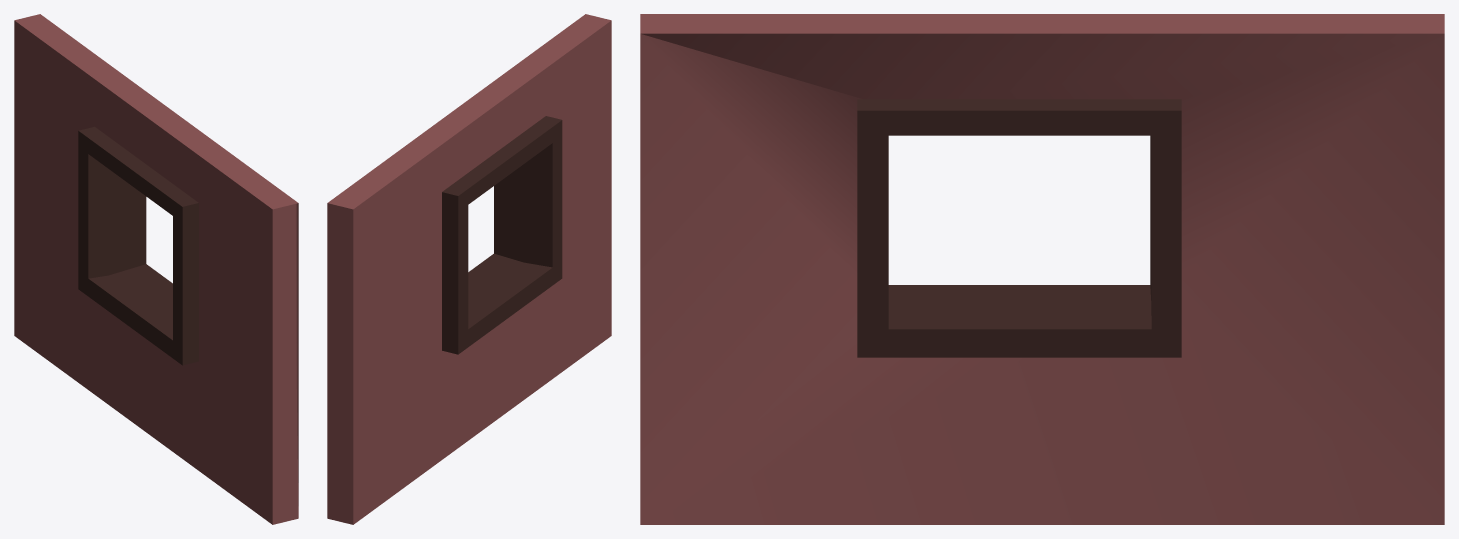
The model's file is A3D_murs_fenetre_.fbx.
3 renders of one model, left to right at view 1: azimuth 30°, elevation 25°; view 2: azimuth 150°, elevation 25°; view 3: azimuth 270°, elevation 25°, orthographic. The views are drawn at different scales.
Visible parts, largest first — view 1: pCube211; view 2: pCube211; view 3: pCube211.
Boxes of the visible parts, <box> form: pCube211: <box>14,14,298,524</box>; pCube211: <box>327,14,611,524</box>; pCube211: <box>640,14,1444,524</box>.
Size of the model in its own units: 14.81 by 76.45 by 113.
